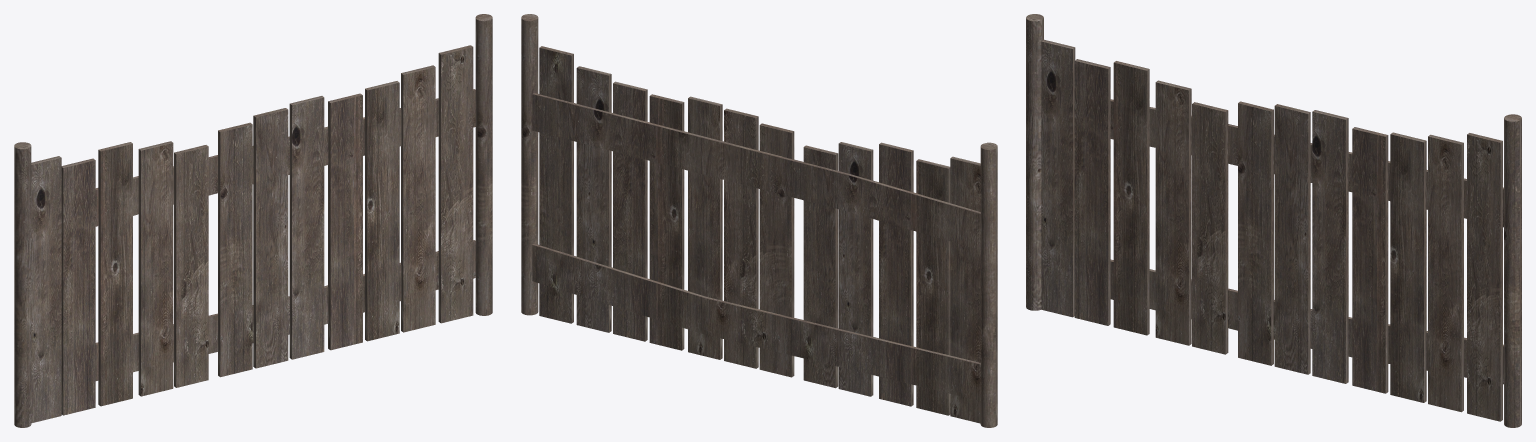
File: Fence02.fbx
The picture shows the model from 3 angles, left to right: view 1: azimuth 30°, elevation 25°; view 2: azimuth 150°, elevation 25°; view 3: azimuth 330°, elevation 25°; orthographic projection. The views are drawn at different scales.
Parts seen in each view (by area): view 1: Fence02; view 2: Fence02; view 3: Fence02.
Boxes of the visible parts, x1=… form: Fence02: x1=14, y1=14, x2=492, y2=427; Fence02: x1=521, y1=14, x2=997, y2=427; Fence02: x1=1026, y1=14, x2=1521, y2=427.
Size of the model in its own units: 374 by 221 by 12.45.
